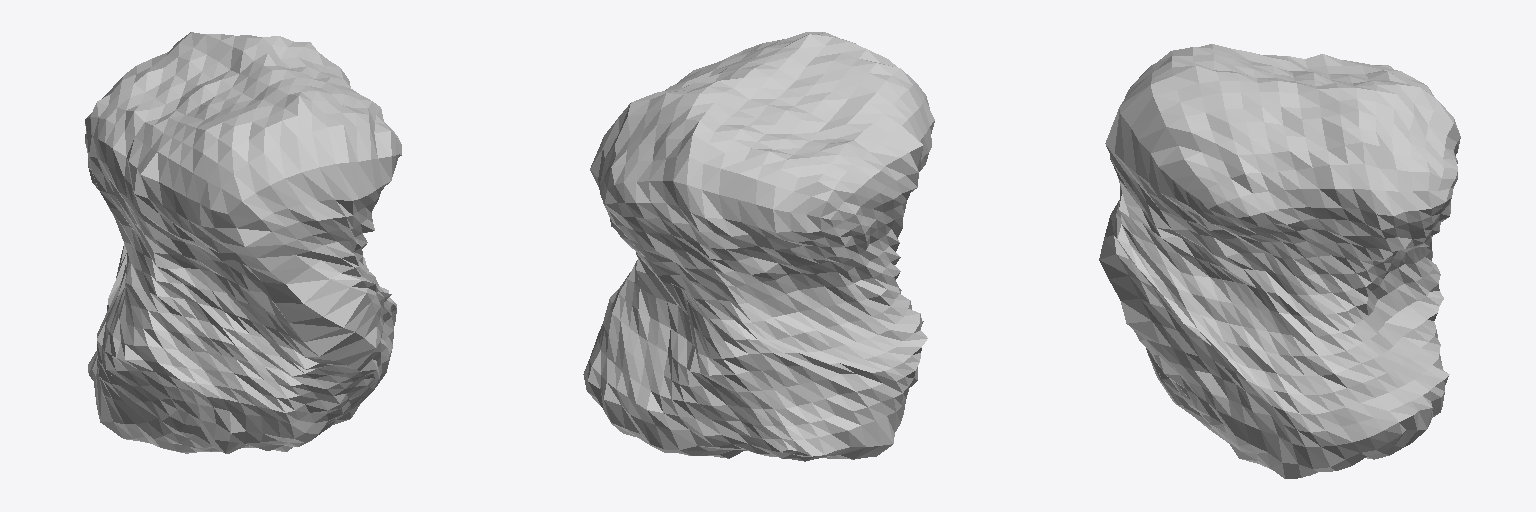
Rendered from Asteroid6.obj.
The picture shows the model from 3 angles: view 1: azimuth 30°, elevation 25°; view 2: azimuth 150°, elevation 25°; view 3: azimuth 270°, elevation 25°; orthographic projection.
Parts seen in each view (by area): view 1: rock.002; view 2: rock.002; view 3: rock.002.
Boxes of the visible parts, box(x1,y1,x2,y2) form: rock.002: box(85, 32, 401, 453); rock.002: box(583, 32, 934, 461); rock.002: box(1099, 44, 1460, 478).
Size of the model in its own units: 1.1 by 1.34 by 1.15.